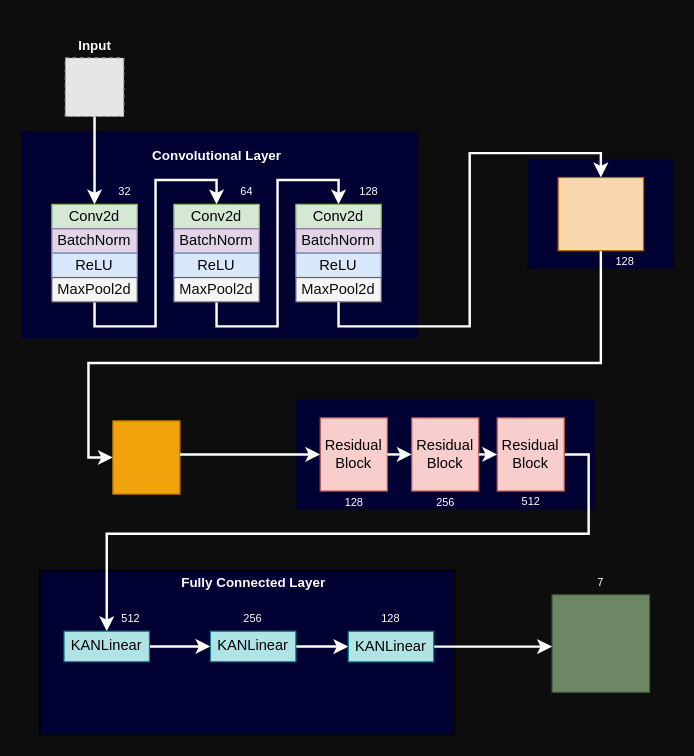
This 694x756 diagram has some shape labels left out. Grey dashed boxes stand in for pictures. Each missing label, with the box of its shape:
Adaptive Average Pooling: (112, 420, 180, 494)
Output: (551, 594, 650, 692)
Squeeze and Excitation Block: (557, 176, 644, 251)
